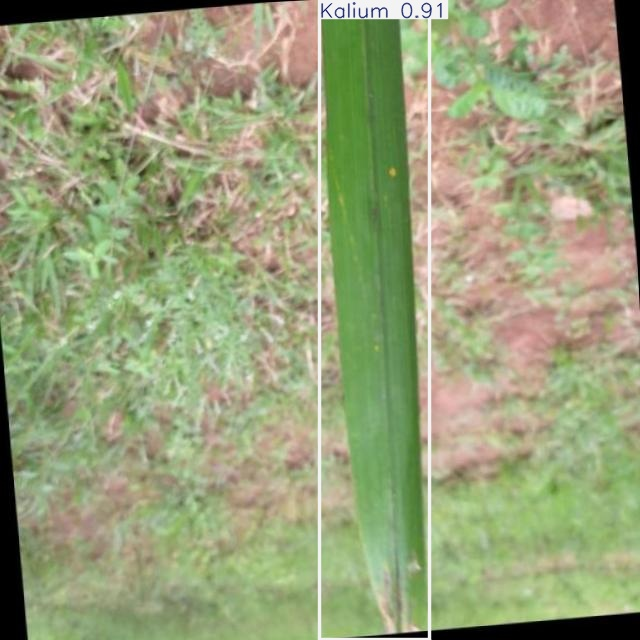Kalium: (319, 0, 430, 640)
